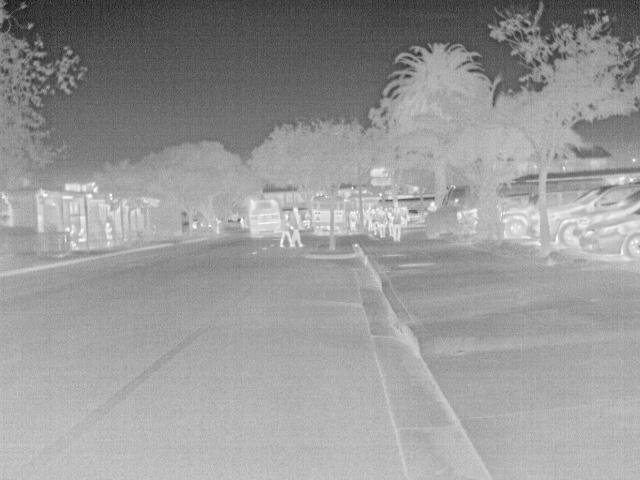car: (546, 182, 639, 247), (578, 204, 638, 264), (498, 204, 538, 241), (452, 205, 478, 224), (526, 209, 540, 241), (406, 207, 422, 224)
person: (288, 206, 307, 250), (275, 212, 294, 248), (388, 202, 403, 243), (374, 206, 388, 239), (102, 222, 114, 241), (76, 227, 88, 245), (425, 200, 440, 212), (238, 214, 247, 230)
